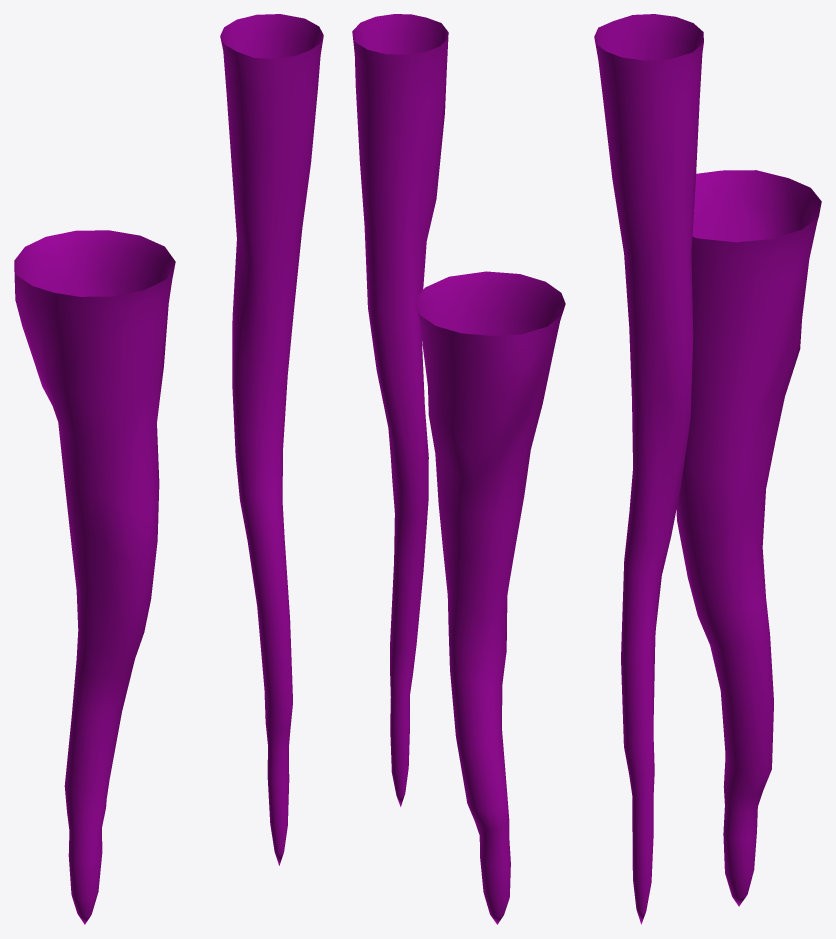
Rendered from Stalactites_AB.fbx.
The picture shows the model from 3 angles, left to right: view 1: azimuth 30°, elevation 25°; view 2: azimuth 150°, elevation 25°; view 3: azimuth 270°, elevation 25°; orthographic projection. The views are drawn at different scales.
Parts seen in each view (by area): view 1: Stalactite_B, Stalactite_A; view 2: Stalactite_B, Stalactite_A; view 3: Stalactite_B, Stalactite_A.
Boxes of the visible parts, x1,y1,x2,y2 form: Stalactite_B: (14, 230, 175, 924); Stalactite_A: (220, 14, 323, 865); Stalactite_B: (415, 271, 565, 924); Stalactite_A: (352, 14, 448, 806); Stalactite_B: (676, 170, 821, 906); Stalactite_A: (594, 14, 703, 924).
Bounding box in the file's own units: 19.43 × 65.35 × 14.26.
